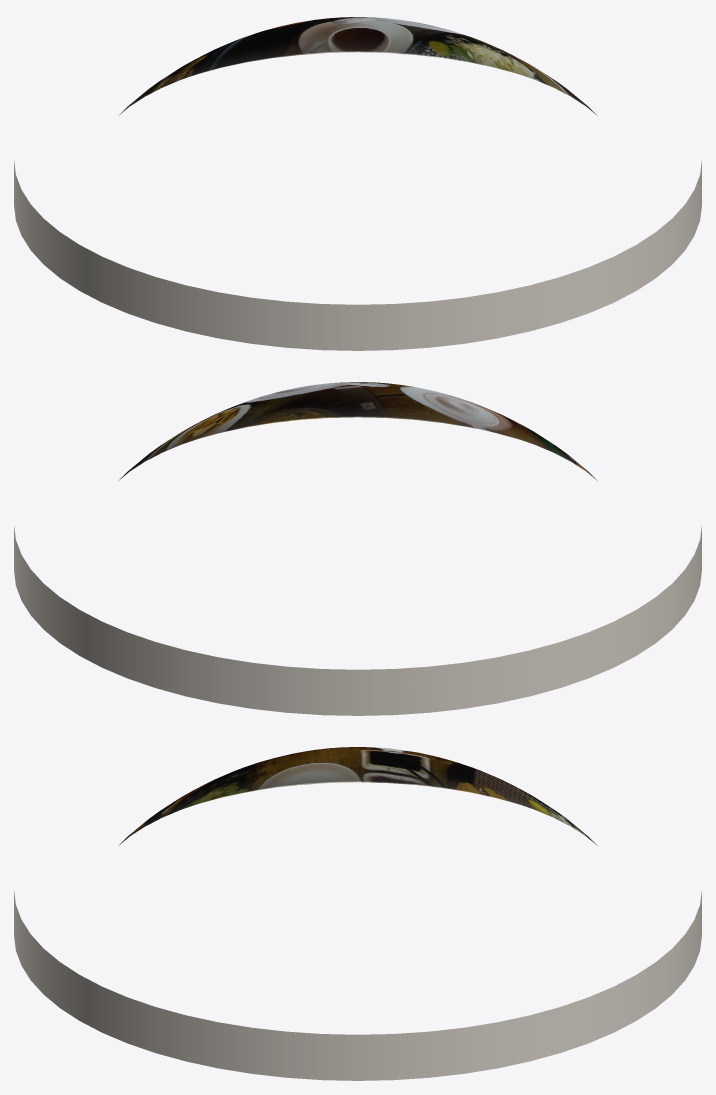
Rendered from chinese.glb.
3 renders of one model, top to bottom at view 1: azimuth 30°, elevation 25°; view 2: azimuth 150°, elevation 25°; view 3: azimuth 270°, elevation 25°, orthographic.
Parts seen in each view (by area): view 1: chinese; view 2: chinese; view 3: chinese.
Boxes of the visible parts, x1=… form: chinese: x1=14, y1=17, x2=701, y2=350; chinese: x1=14, y1=382, x2=701, y2=715; chinese: x1=14, y1=747, x2=701, y2=1080.
Bounding box in the file's own units: 0.27 × 0.069 × 0.27.
1 material, 1 textured.
